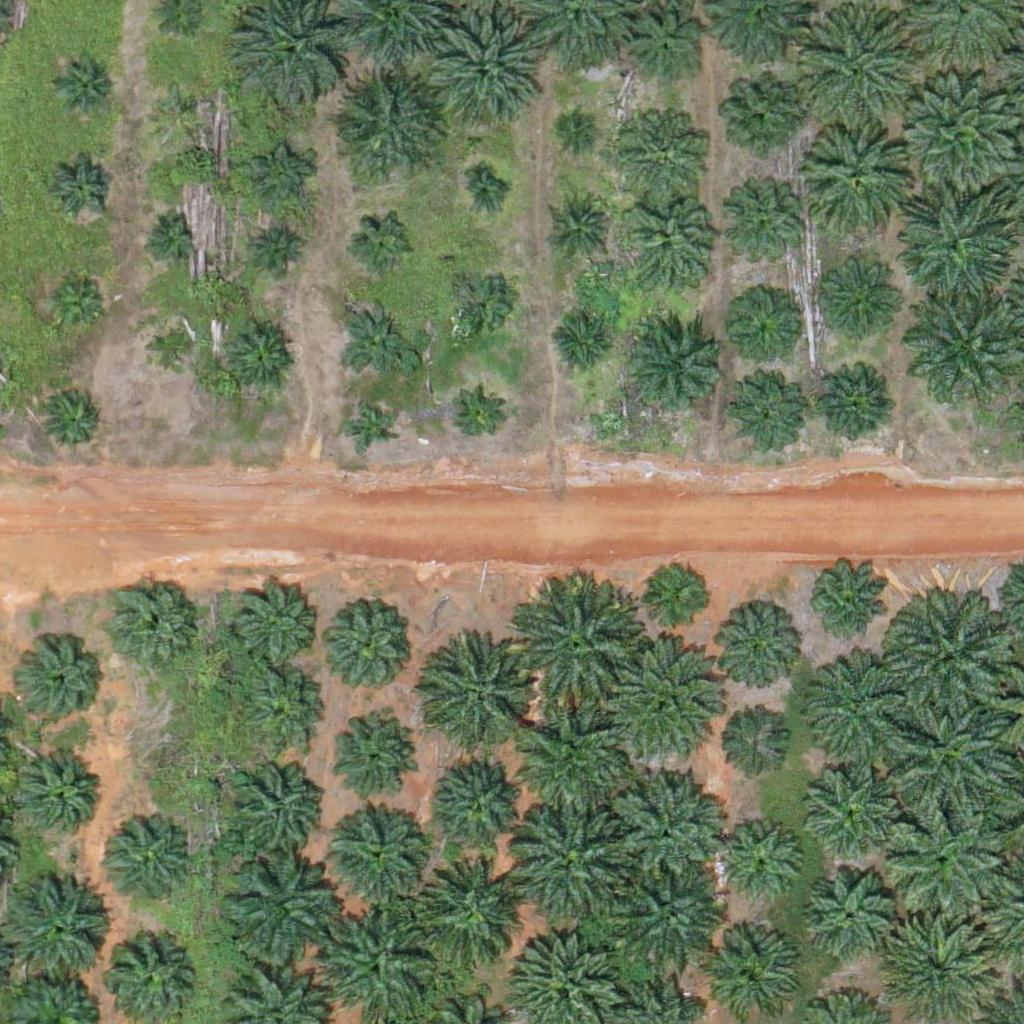Kelapa_Sawit: (885, 594, 1010, 720), (515, 589, 640, 715), (889, 688, 1014, 813), (615, 644, 728, 758), (411, 857, 524, 971), (890, 801, 1003, 914), (804, 649, 917, 762), (518, 707, 631, 820), (509, 808, 622, 921), (906, 286, 1019, 399), (796, 118, 909, 231), (424, 10, 537, 123), (328, 67, 441, 180), (222, 854, 334, 968), (615, 859, 727, 972), (610, 772, 722, 885), (901, 71, 1013, 184), (897, 186, 1009, 299), (799, 8, 911, 121), (433, 750, 533, 851), (317, 594, 417, 695), (93, 814, 193, 915), (622, 317, 722, 418), (428, 648, 528, 748), (330, 804, 430, 904), (226, 757, 326, 857), (712, 606, 800, 695), (803, 764, 891, 852), (713, 818, 801, 906), (324, 710, 412, 798), (106, 579, 194, 667), (9, 750, 97, 838), (617, 108, 705, 196), (625, 202, 713, 290), (804, 560, 891, 648), (805, 868, 892, 956), (244, 665, 331, 753), (232, 582, 319, 670), (19, 639, 106, 727), (811, 255, 898, 343), (725, 78, 800, 154), (714, 711, 789, 787), (819, 371, 894, 447), (727, 193, 802, 269), (730, 375, 805, 451), (623, 11, 698, 87), (222, 319, 297, 394), (338, 301, 413, 376), (50, 52, 113, 115), (50, 157, 113, 220), (727, 298, 790, 361), (43, 389, 106, 452), (551, 316, 614, 379), (648, 563, 711, 626), (446, 271, 509, 334), (43, 271, 106, 334), (250, 144, 312, 207), (354, 213, 416, 276), (452, 393, 502, 444), (256, 222, 306, 273), (345, 402, 395, 453), (153, 79, 203, 130), (143, 208, 193, 259), (554, 201, 604, 251), (147, 324, 197, 374), (562, 112, 600, 150), (467, 174, 504, 212)
